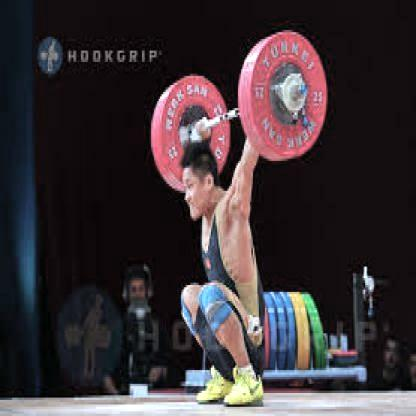Barbell: (297, 78, 309, 98)
